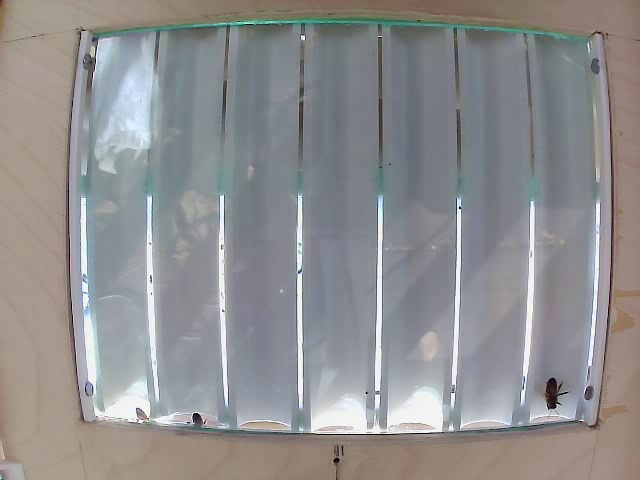bee: (535, 379, 567, 417)
